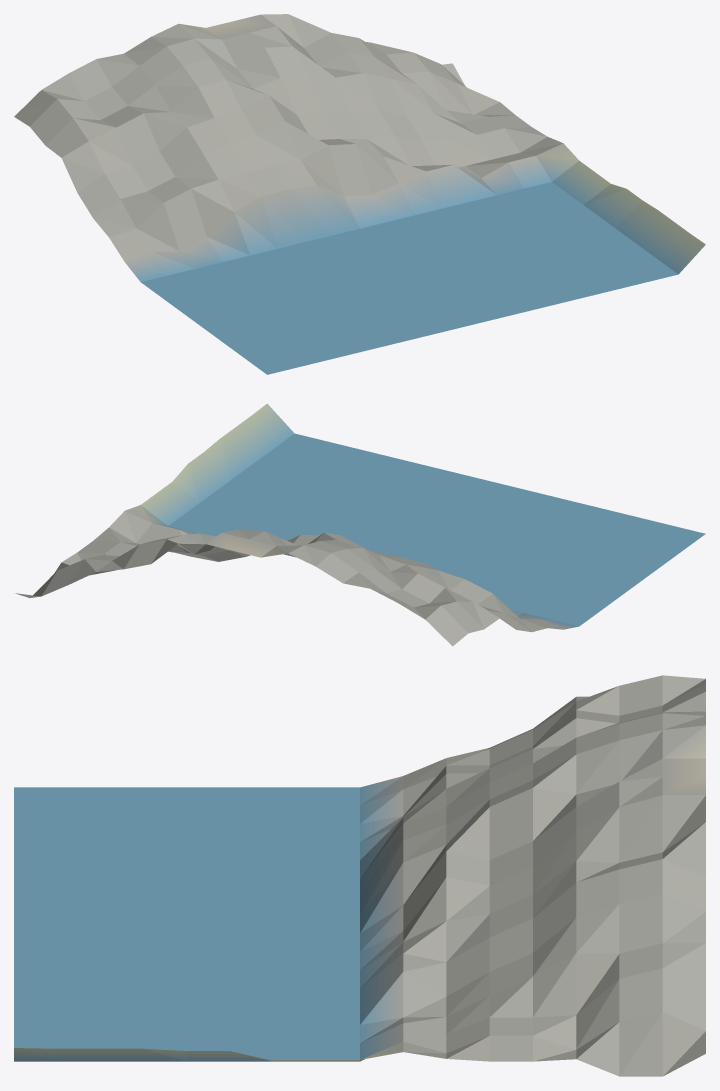
3 views of the same model, one above another, from view 1: azimuth 30°, elevation 25°; view 2: azimuth 150°, elevation 25°; view 3: azimuth 270°, elevation 25° (orthographic). The views are drawn at different scales.
Bounding box in the file's own units: 32 × 8.76 × 32.
